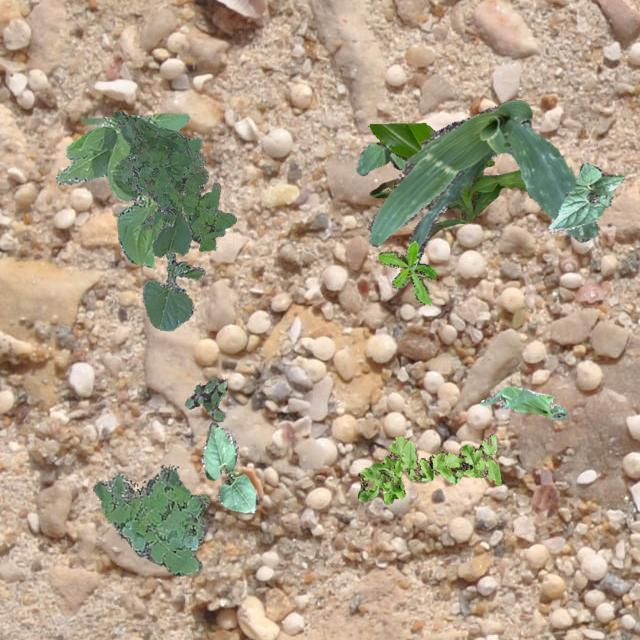crop: (367, 98, 598, 260), (54, 112, 188, 266), (369, 121, 525, 236), (142, 206, 204, 330), (548, 160, 624, 232), (200, 422, 256, 512), (479, 386, 566, 418)
weed: (112, 110, 235, 250), (92, 466, 208, 574), (356, 434, 499, 504), (378, 240, 436, 304), (184, 376, 226, 420), (356, 142, 404, 174)
